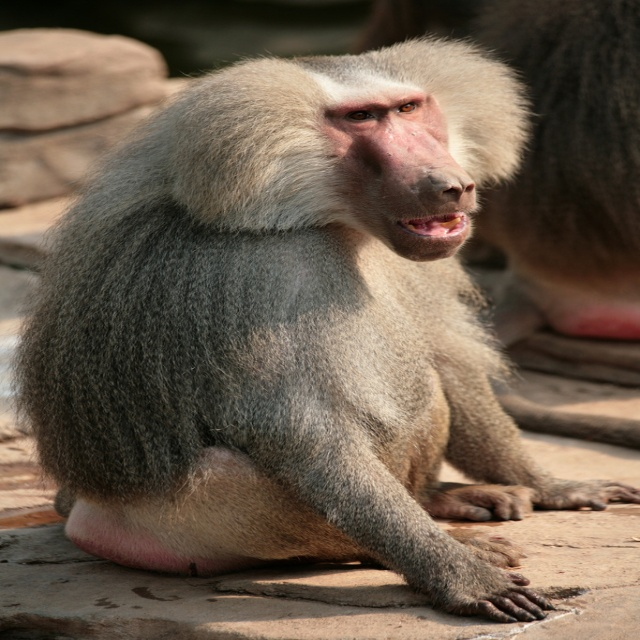Monkey: (0, 25, 639, 624)
